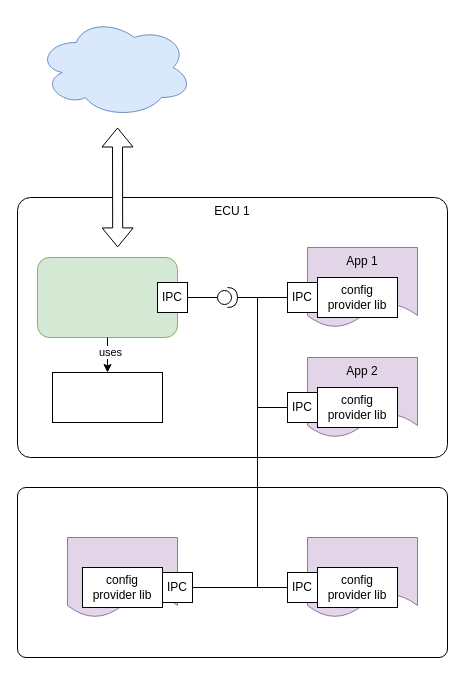
Some shapes in this 465 by 675 pixel diagram are drawn without their labels. Here are the shapes that lost their labels. From the top down, the box of each, then its label:
(36, 16, 192, 118): Cloud
(36, 256, 178, 338): Config Manager
(52, 372, 162, 422): «interface» Storage
(66, 536, 178, 618): App 4
(16, 486, 448, 658): ECU 2
(306, 536, 418, 618): App 3
